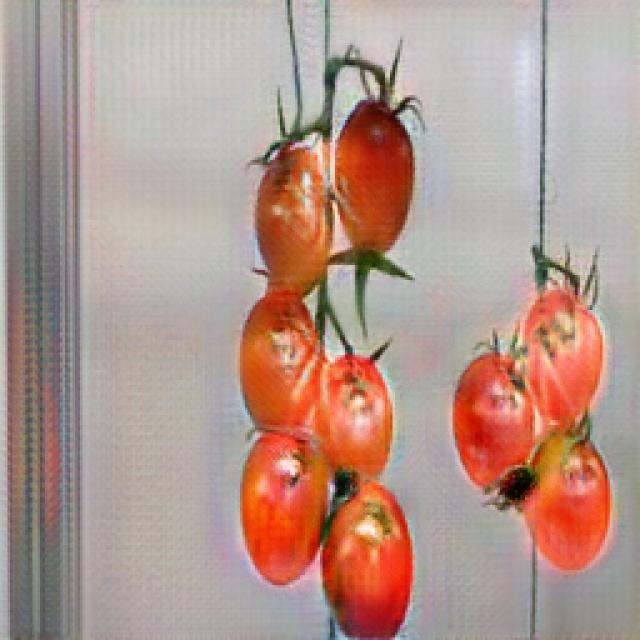overripe tomato: (308, 482, 434, 640), (331, 106, 420, 259), (235, 428, 322, 582), (525, 434, 613, 580), (312, 352, 406, 480), (237, 297, 325, 424), (523, 289, 604, 420), (452, 355, 532, 479)
